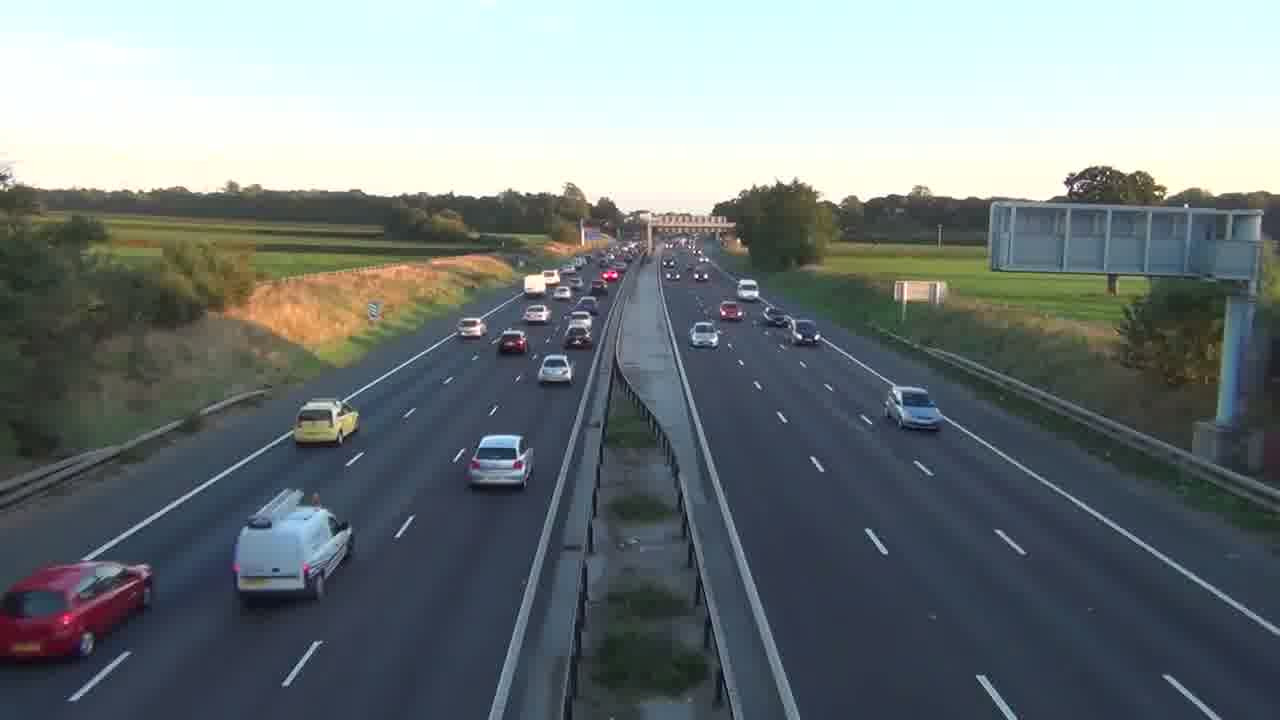car: (0, 558, 156, 662), (464, 433, 535, 489), (883, 385, 944, 431), (538, 353, 574, 385)
truck: (231, 486, 354, 605)
